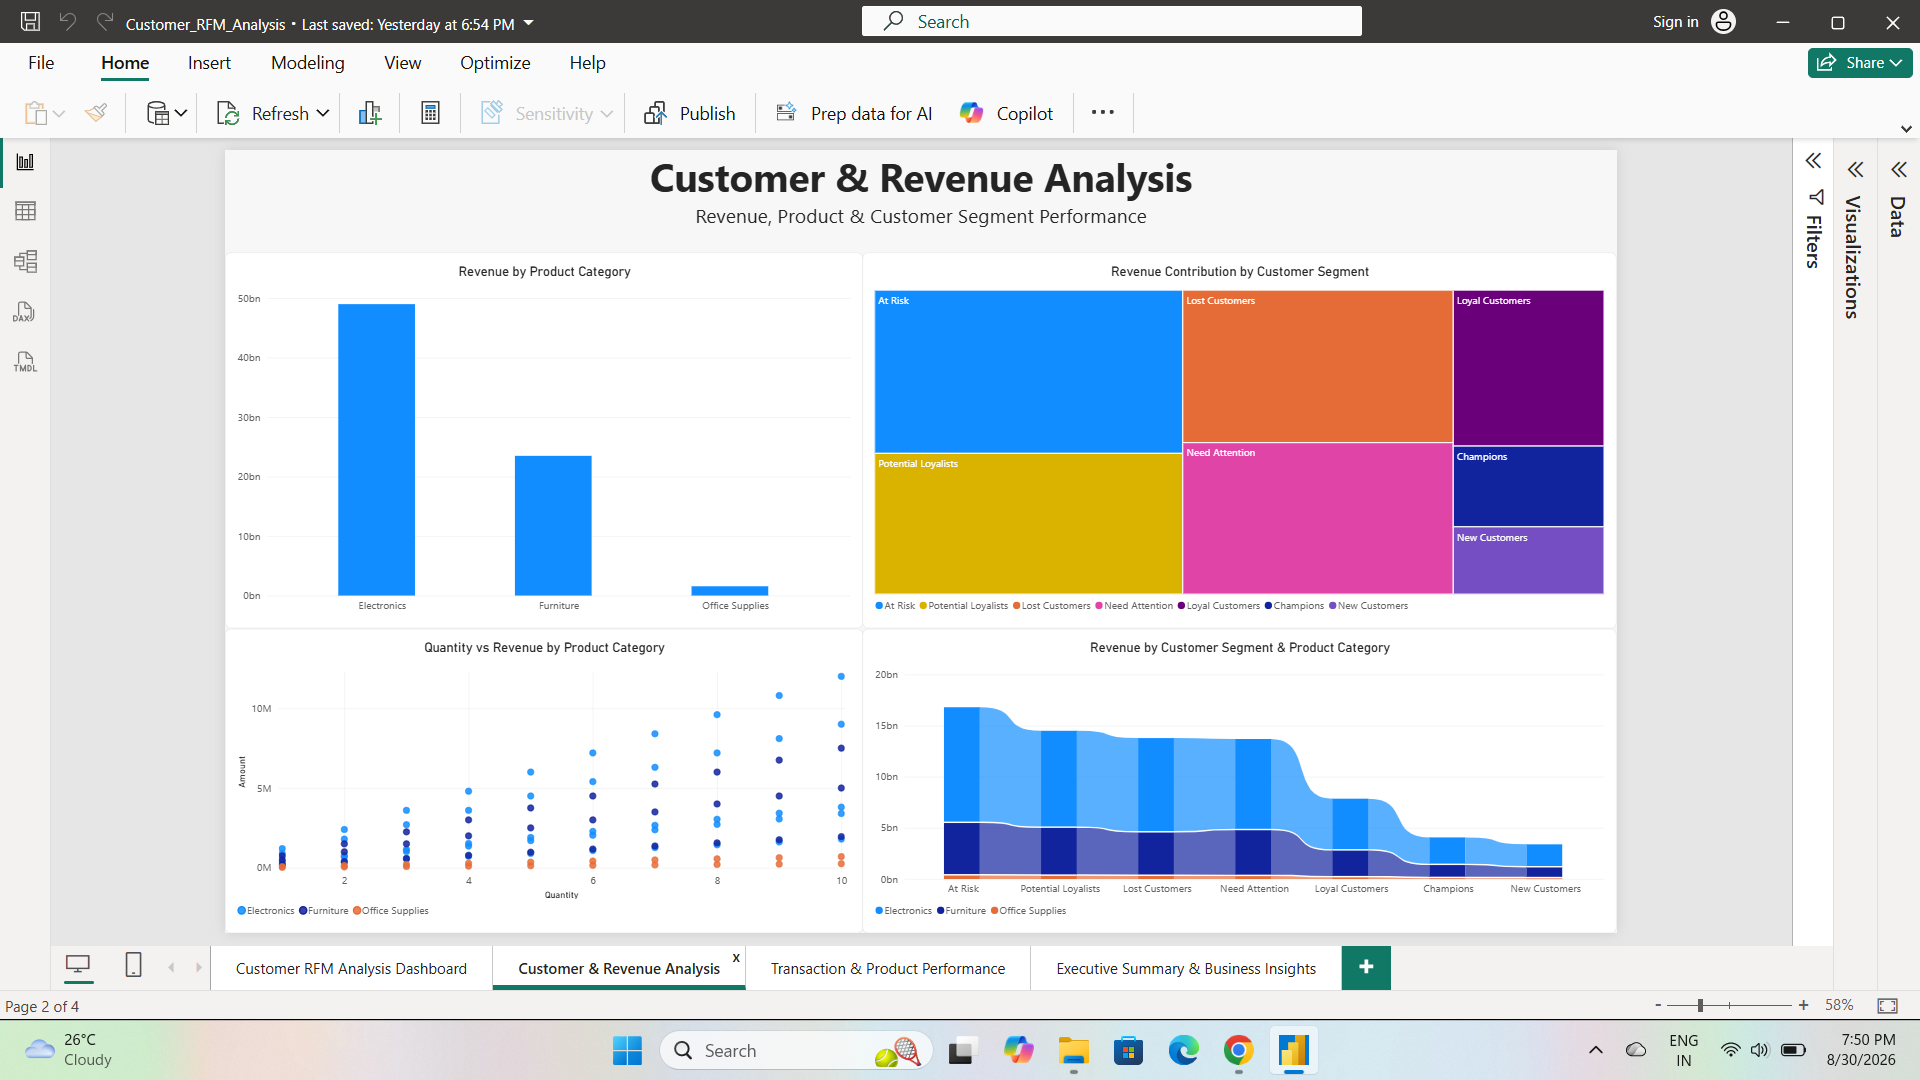

What the dashboard file says about the page in this screenshot:
{"tool":"powerbi","page":{"name":"Customer & Revenue Analysis","canvas":[1920,1080],"ordinal":1},"visuals":[{"type":"textbox","box":[0,0,1920.4,123.5],"z":0},{"type":"clusteredColumnChart","title":"Revenue by Product Category","fields":{"Category":["customer_rfm_analysis sales_transactions.Product_Category"],"Y":["Sum(customer_rfm_analysis sales_transactions.Amount)"]},"box":[0,142,880,518],"z":1000},{"type":"treemap","title":"Revenue Contribution by Customer Segment","fields":{"Group":["customer_rfm_analysis customer_segments.Customer_Segment"],"Values":["Sum(customer_rfm_analysis customer_segments.Monetary)"]},"box":[880,142,1040,518],"z":2000},{"type":"scatterChart","title":"Quantity vs Revenue by Product Category","fields":{"Y":["customer_rfm_analysis sales_transactions.Amount"],"X":["customer_rfm_analysis sales_transactions.Quantity"],"Series":["customer_rfm_analysis sales_transactions.Product_Category"]},"box":[0,660,880,420],"z":3000},{"type":"ribbonChart","title":"Revenue by Customer Segment & Product Category","fields":{"Category":["customer_rfm_analysis customer_segments.Customer_Segment"],"Y":["Sum(customer_rfm_analysis sales_transactions.Amount)"],"Series":["customer_rfm_analysis sales_transactions.Product_Category"]},"box":[880,660,1040,420],"z":4000}]}

Visuals, with their boxes on the page's 1920x1080 design canvas (x1, y1, x2, y2). These are canvas units, not pixel positions in the 1920x1080 screenshot, which may show the page scaled, cropped or inside an application window:
textbox: (x1=0, y1=0, x2=1920, y2=124)
"Revenue by Product Category" clusteredColumnChart: (x1=0, y1=142, x2=880, y2=660)
"Revenue Contribution by Customer Segment" treemap: (x1=880, y1=142, x2=1920, y2=660)
"Quantity vs Revenue by Product Category" scatterChart: (x1=0, y1=660, x2=880, y2=1080)
"Revenue by Customer Segment & Product Category" ribbonChart: (x1=880, y1=660, x2=1920, y2=1080)
